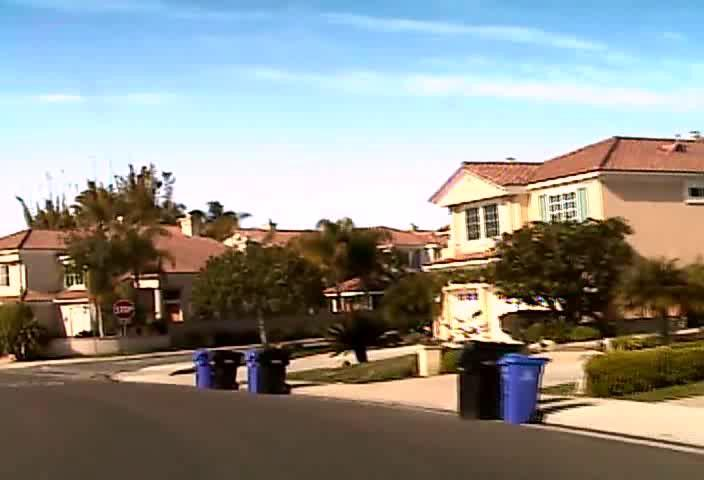stop: (112, 299, 135, 320)
